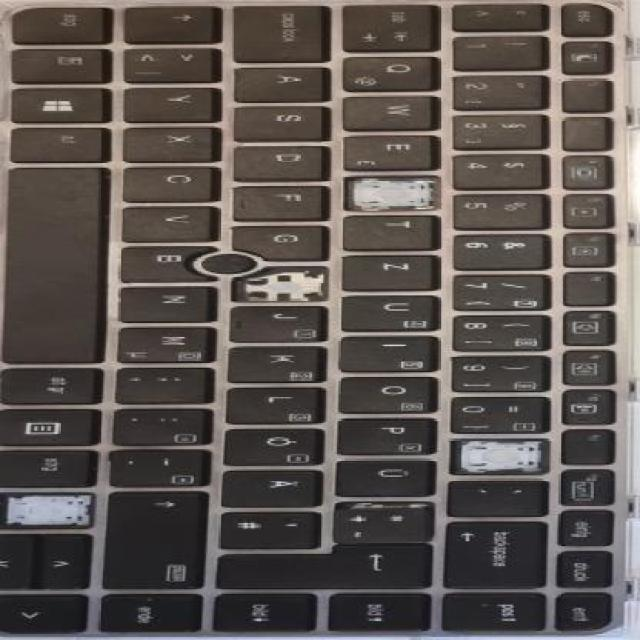Keyboard problems: (451, 438, 548, 474), (2, 494, 92, 526), (348, 178, 437, 209), (237, 271, 326, 300)
